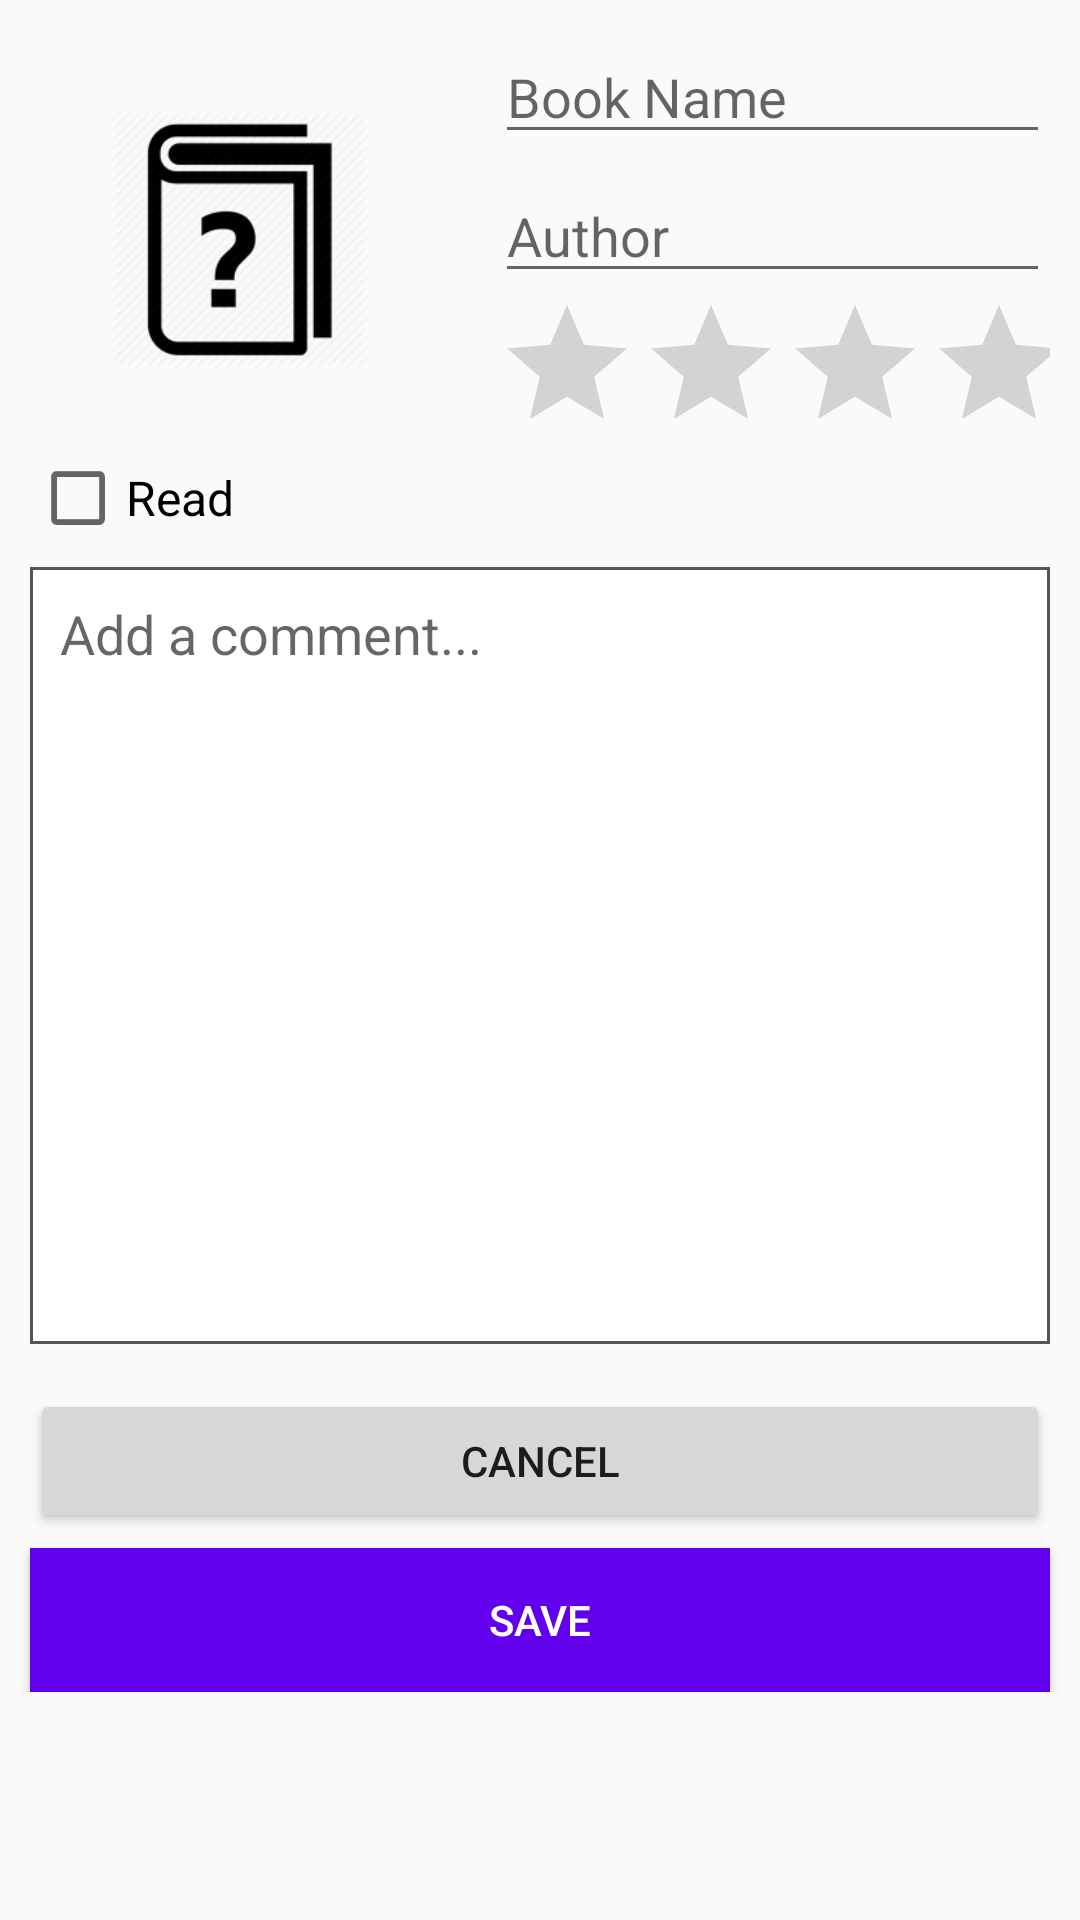

Where to tap for icons on this 1080px x 1920px app screen, as (x=x, y=y):
book unknown: (x=240, y=239)
